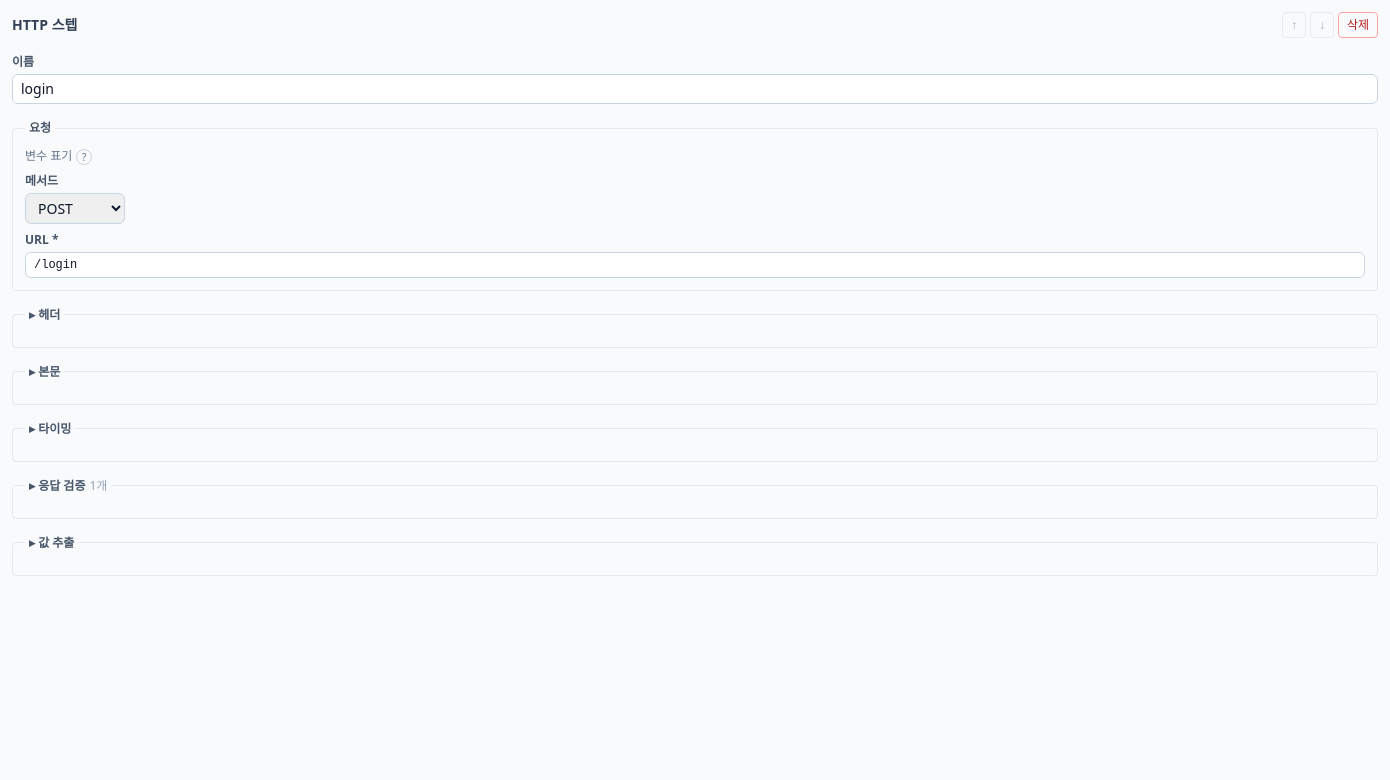
Test case: Inspector — ExtractEditor › switching from to header swaps the second field from path to name
Click the button "▸ 값 추출".
click(52, 543)  # box [29,535,74,551]
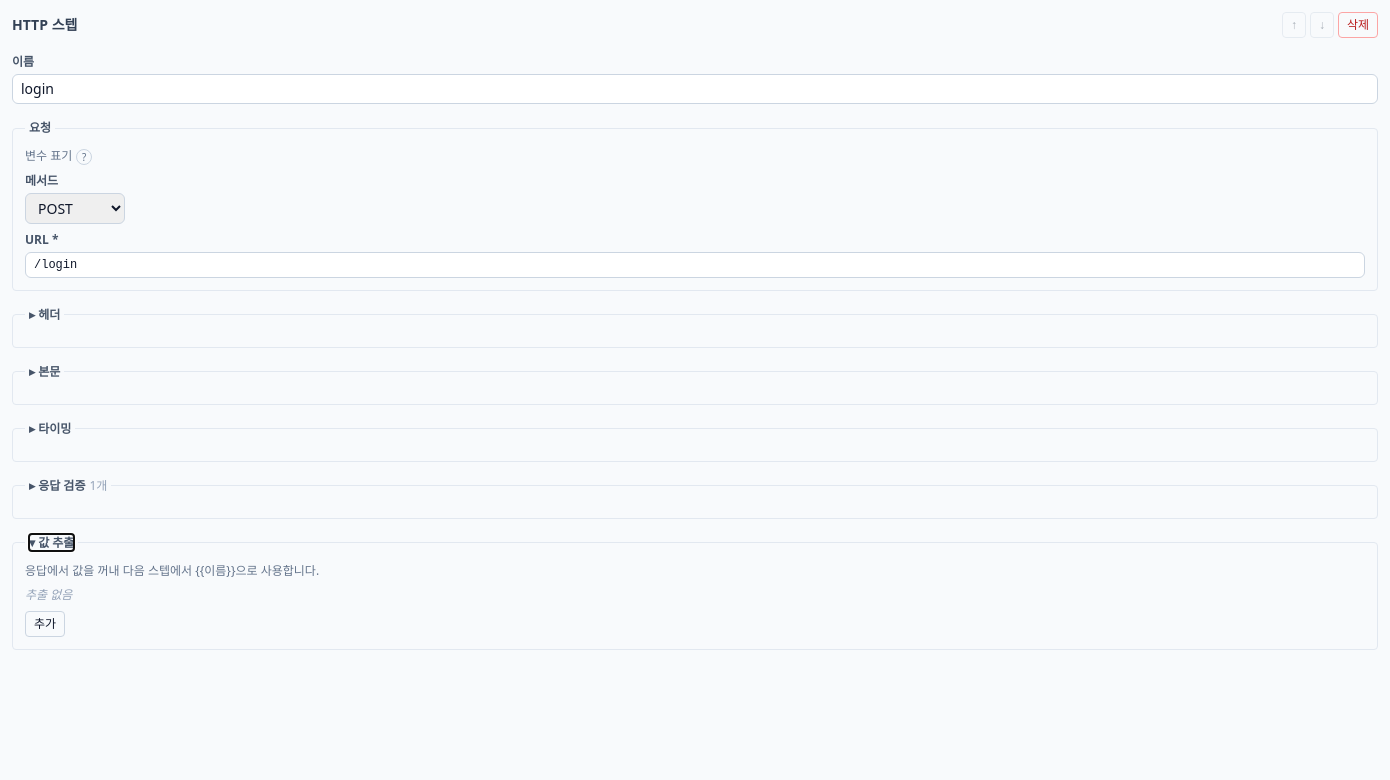
Click the button "추가".
click(45, 624)  # box [25,611,65,637]
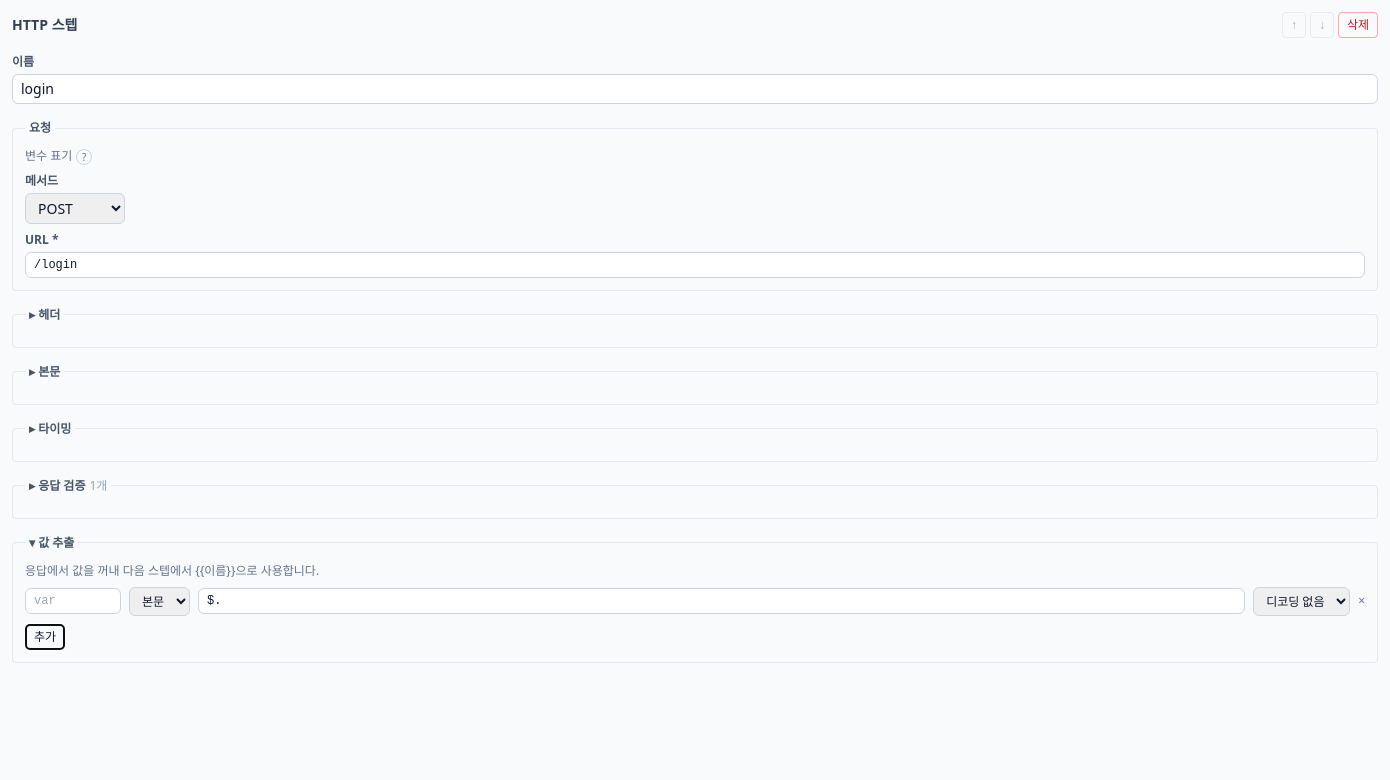
Select "헤더" in the dropdown named "추출 0 종류" at (160,601), box [129,587,190,616]
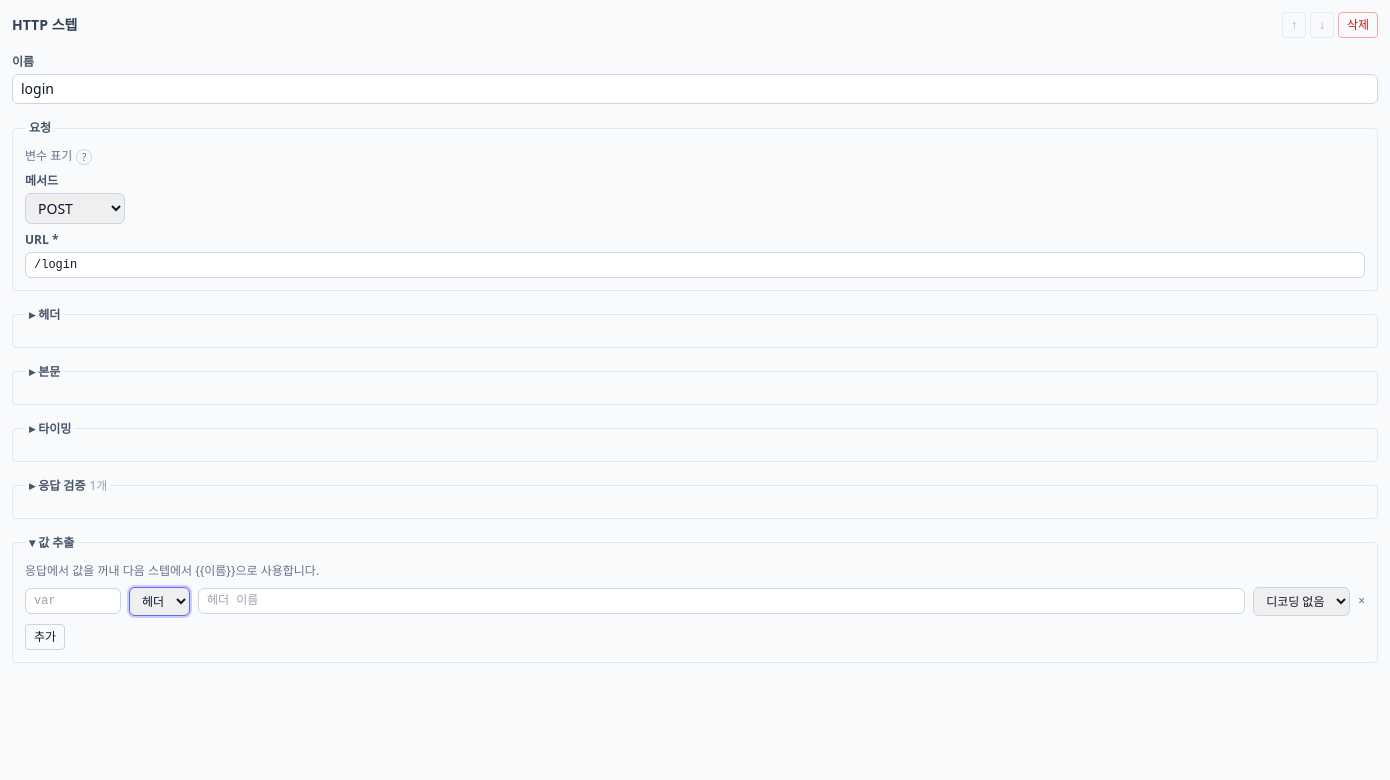
Result: the field with placeholder "헤더 이름" is shown at [198,588,1245,614]
